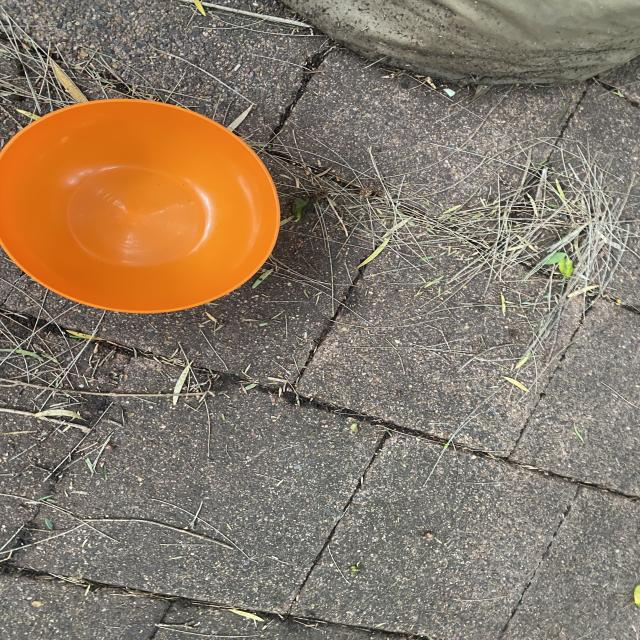bowl: (0, 97, 281, 313)
